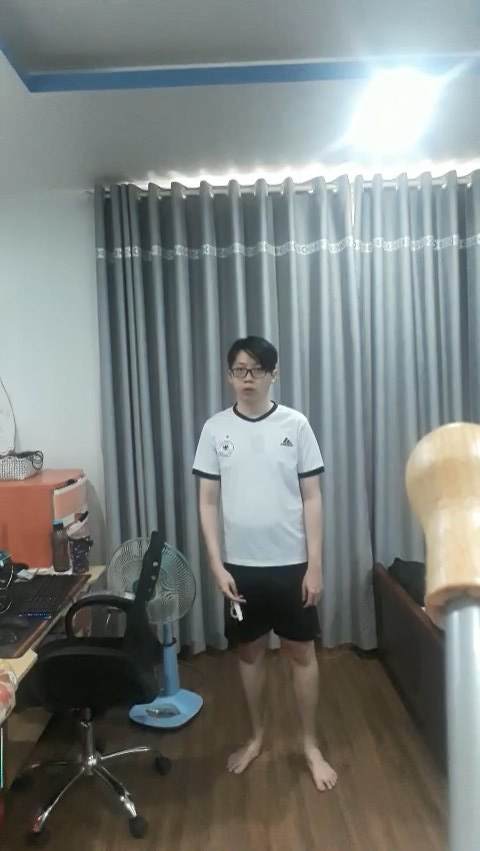cigarette: (233, 600, 245, 623)
person: (187, 328, 343, 802)
